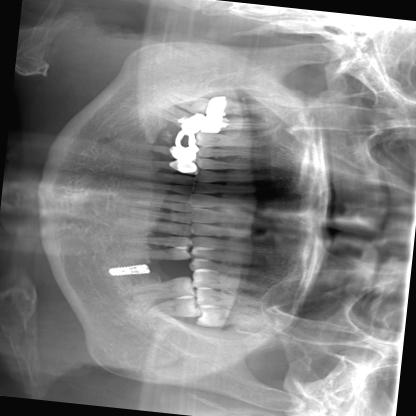ITI: (104, 256, 154, 283)
